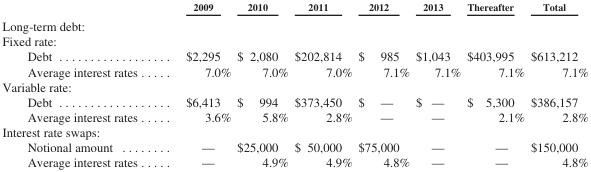table: (1, 0, 587, 169)
table column: (1, 0, 161, 169), (161, 0, 233, 169), (290, 0, 354, 169), (463, 0, 526, 169), (526, 0, 587, 169), (354, 0, 412, 169), (233, 0, 290, 169), (412, 0, 463, 169)
table column header: (1, 0, 587, 15)
table projected row header: (1, 15, 587, 33), (1, 33, 587, 48), (1, 78, 587, 93), (1, 124, 587, 139)
table row: (1, 15, 587, 33), (1, 93, 587, 109), (1, 0, 587, 15), (1, 33, 587, 48), (1, 48, 587, 63), (1, 63, 587, 78), (1, 78, 587, 93), (1, 109, 587, 124), (1, 124, 587, 139), (1, 139, 587, 154), (1, 154, 587, 169)
